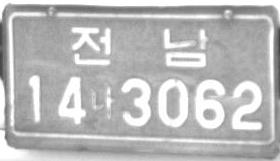0: (156, 77, 189, 128)
1: (24, 74, 48, 123)
2: (231, 79, 263, 131)
3: (120, 76, 152, 127)
4: (56, 75, 87, 125)
6: (193, 78, 226, 130)
나: (89, 83, 115, 119)
전남_D: (70, 26, 209, 68)
